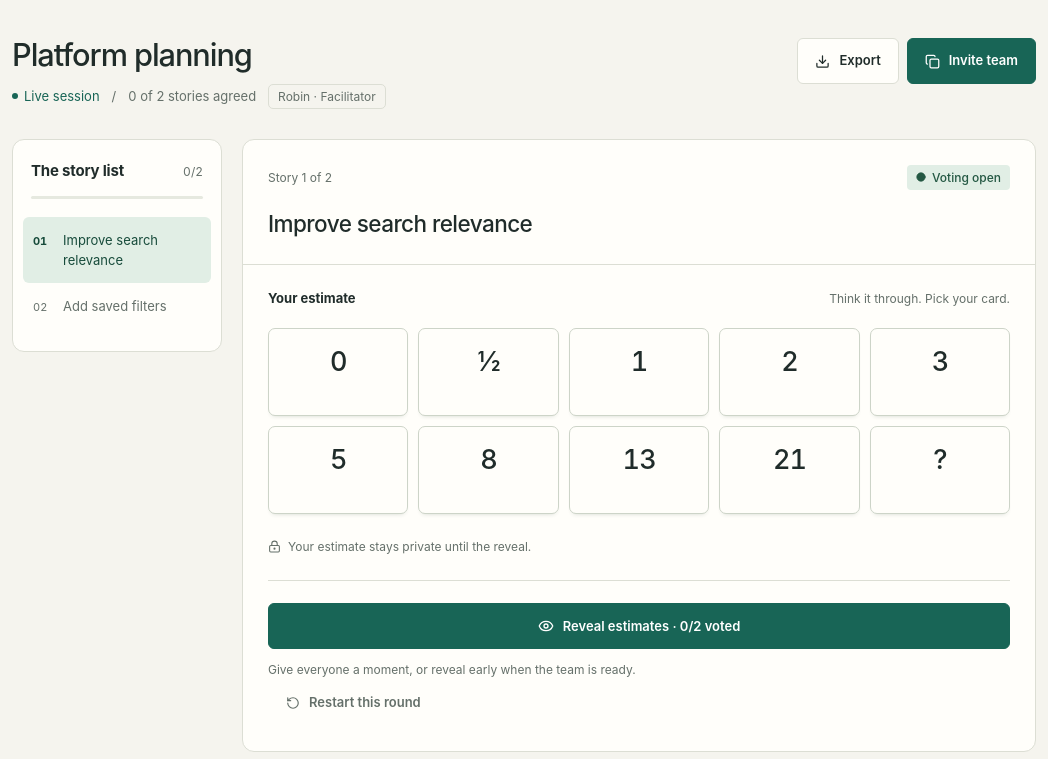
Test case: Room voting › does not claim invite copy success when clipboard access fails
Click the button "Invite team": (971, 61) [907, 38, 1036, 84]
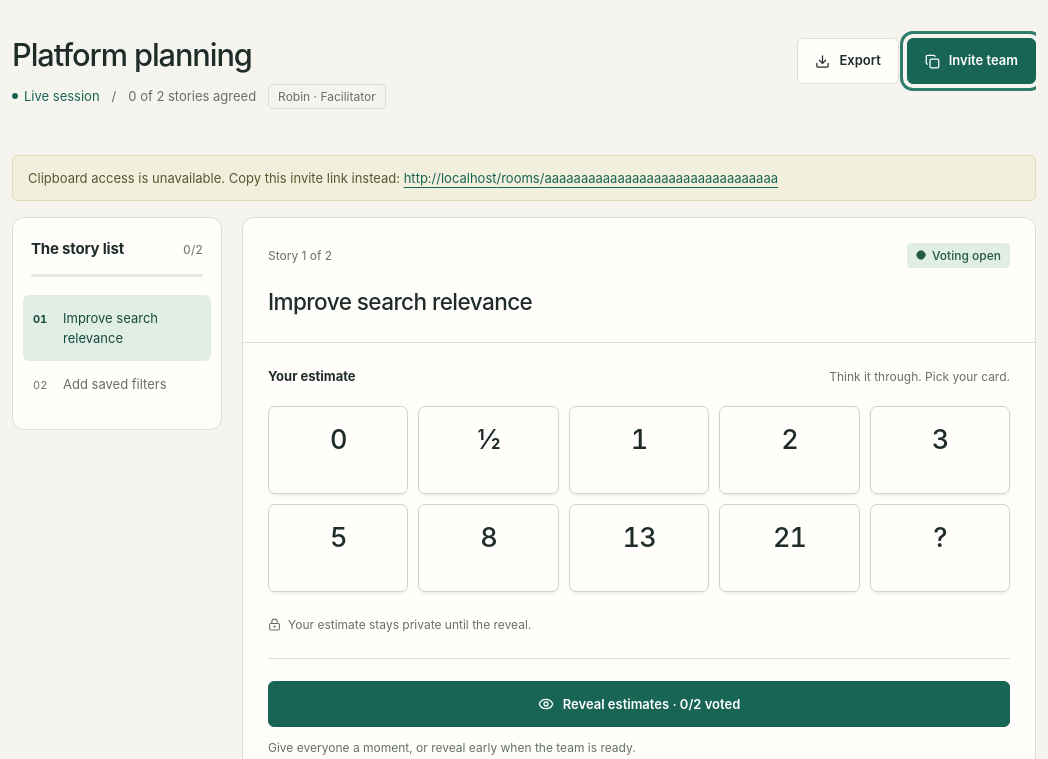
Check: the text "Clipboard access is unavailable" is shown, box [28, 170, 404, 186]
